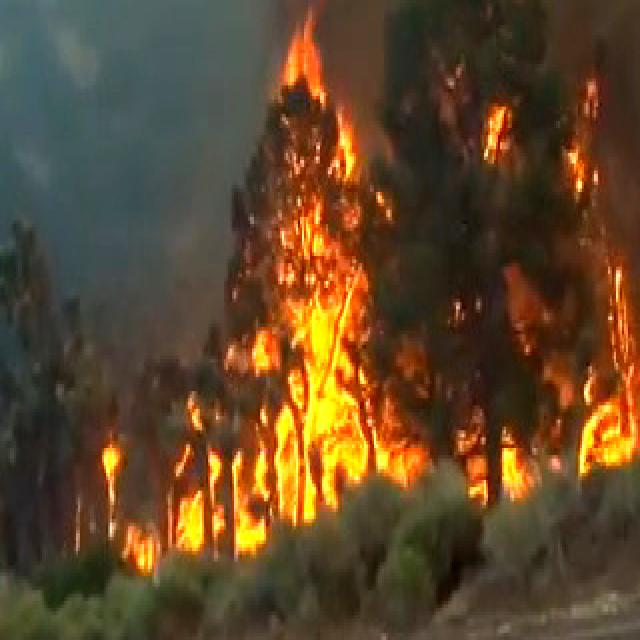fire: (225, 17, 370, 476), (584, 320, 640, 441)
